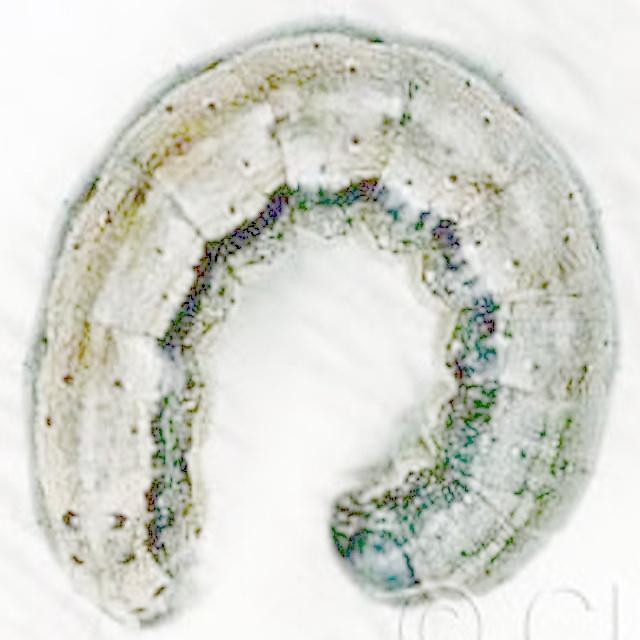gusano_cogollero: (19, 24, 628, 636)
